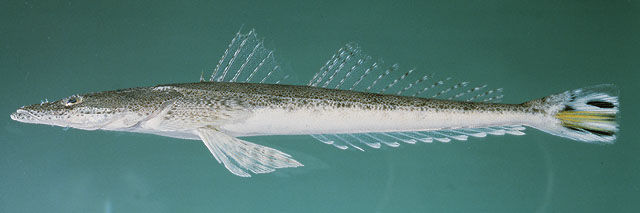fish: (9, 22, 621, 178)
